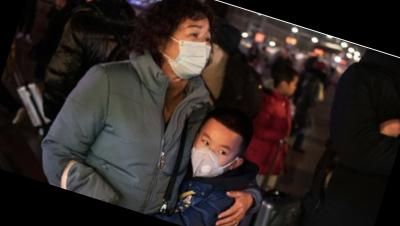with_mask: (160, 15, 219, 85), (185, 128, 239, 186)
without_mask: (283, 76, 301, 100)
